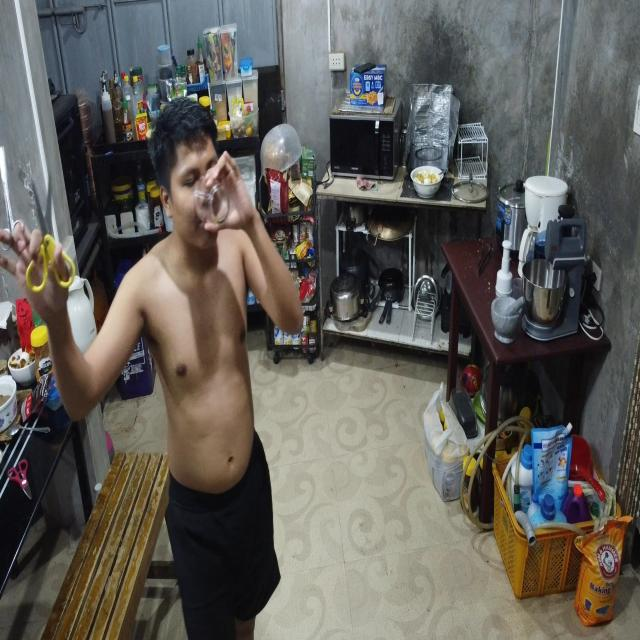scissor: (27, 168, 76, 292), (0, 144, 26, 250), (6, 459, 32, 502)
